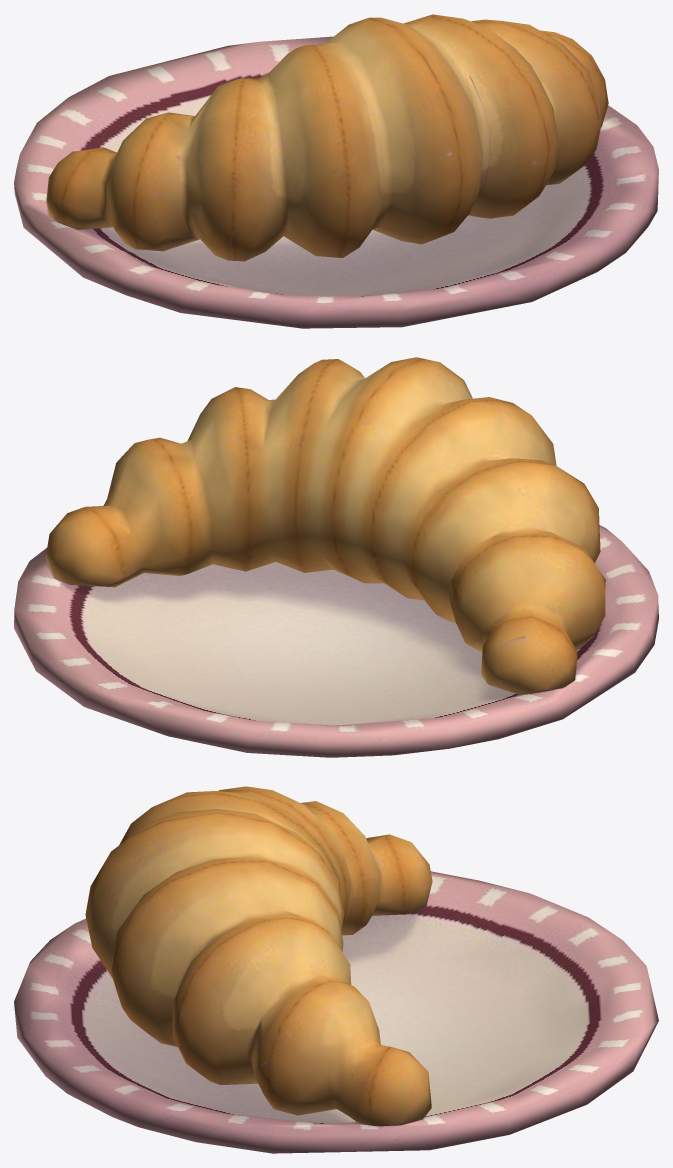
The model's file is collectible_pastry.glb.
The picture shows the model from 3 angles, top to bottom: view 1: azimuth 30°, elevation 25°; view 2: azimuth 150°, elevation 25°; view 3: azimuth 270°, elevation 25°; orthographic projection.
Parts seen in each view (by area): view 1: Croissant, Plate; view 2: Croissant, Plate; view 3: Plate, Croissant.
Part boxes in pixels (box(x1,y1,x2,y2)): Croissant: box(46, 14, 608, 261); Plate: box(14, 36, 658, 328); Croissant: box(46, 357, 605, 694); Plate: box(14, 525, 658, 757); Plate: box(14, 871, 658, 1153); Croissant: box(85, 786, 432, 1126).
Size of the model in its own units: 0.3093 by 0.1299 by 0.3112.
Materials: 1 (1 with a texture image).
